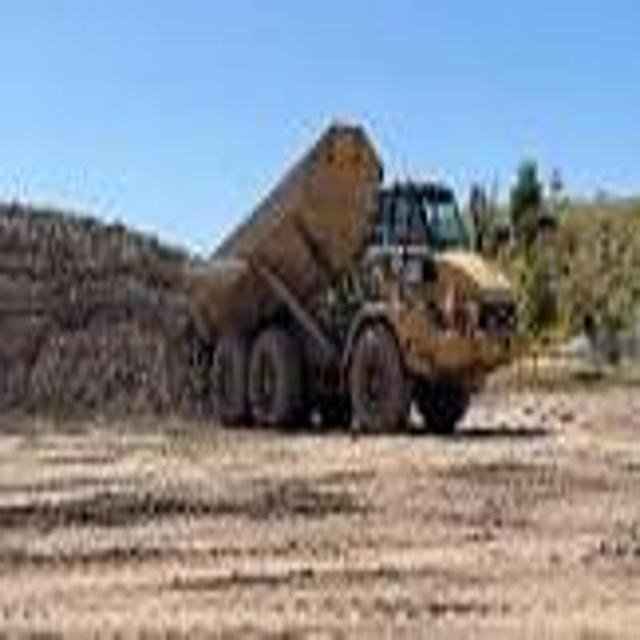dump_truck: (181, 105, 522, 468)
